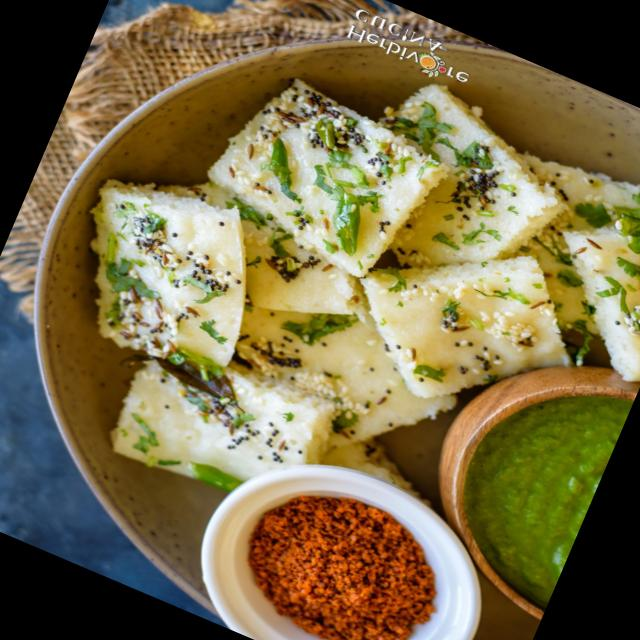dhokla: (18, 0, 640, 621)
